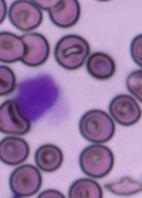L: (10, 70, 72, 130)
